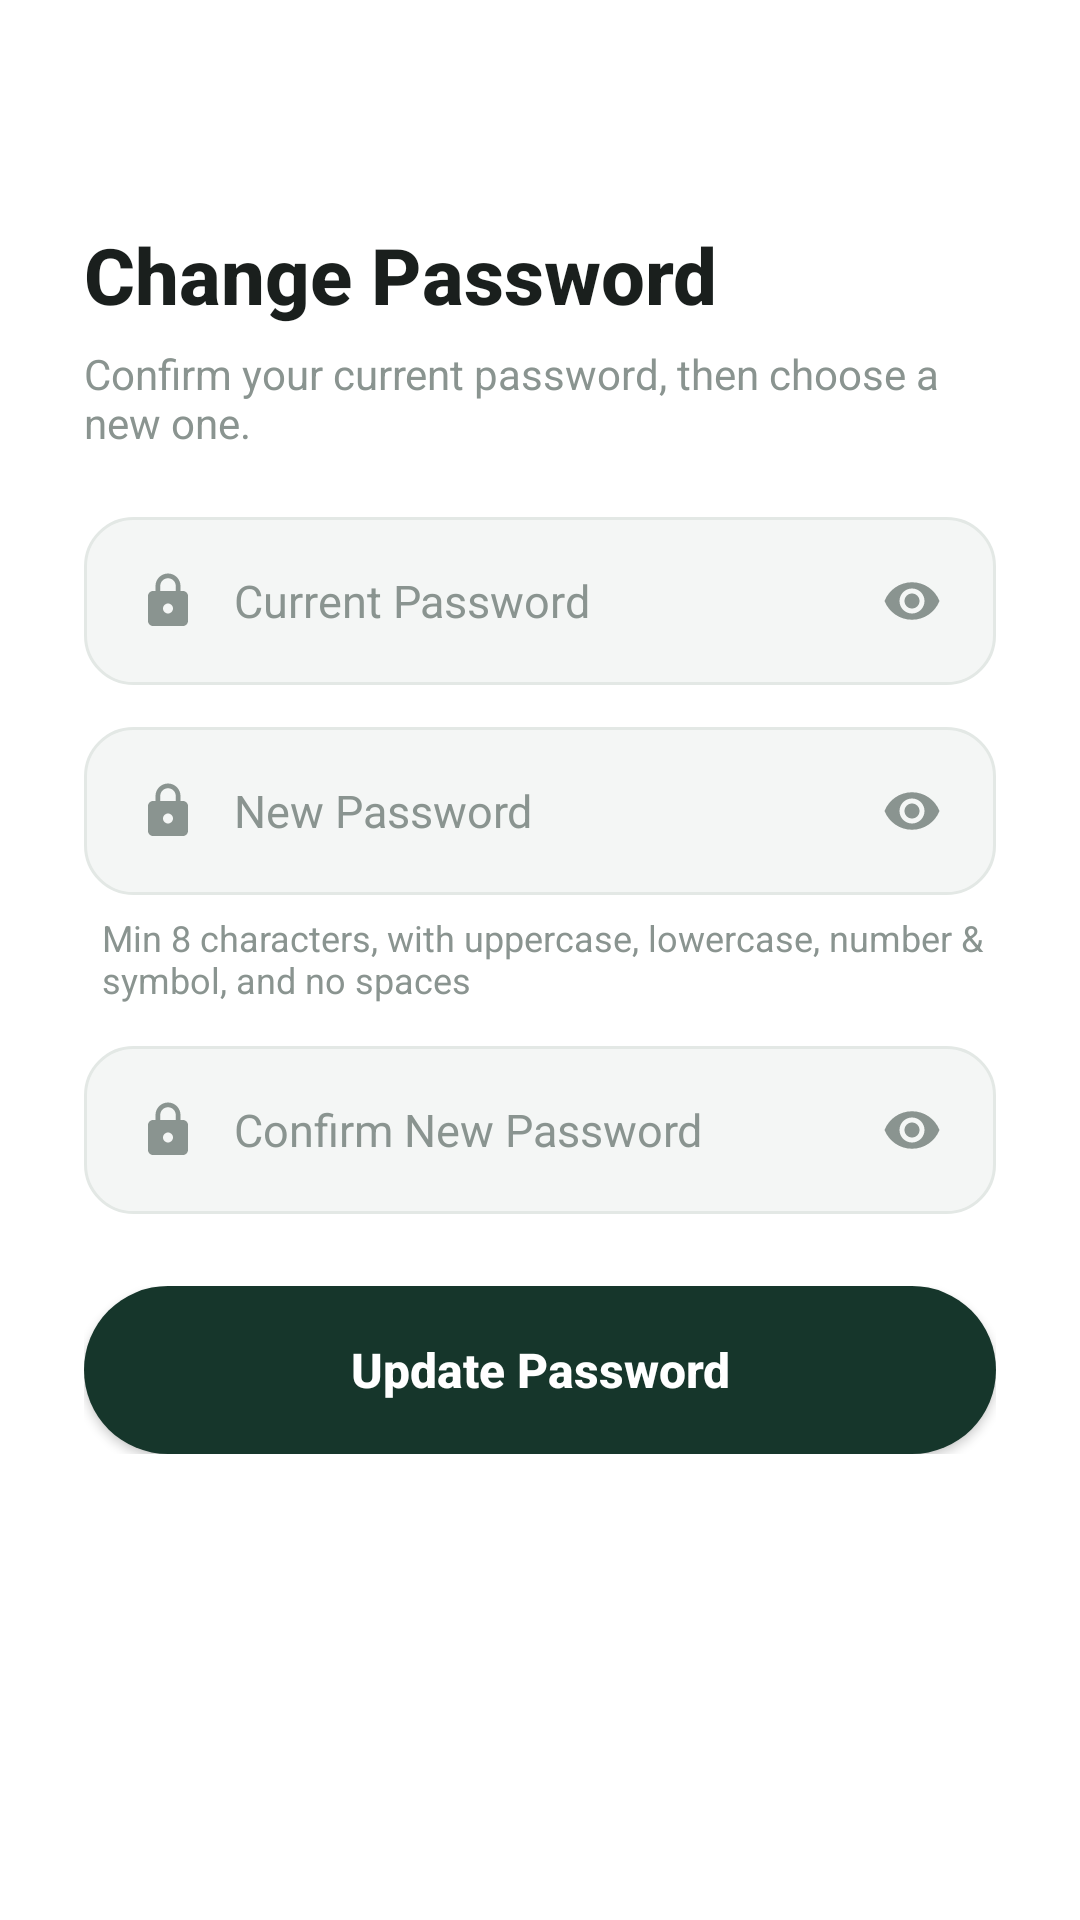

Icon click points for this 1080 × 1920 phone screenshot, format [x,y]:
eye: [912,601], [912,811], [912,1130]
